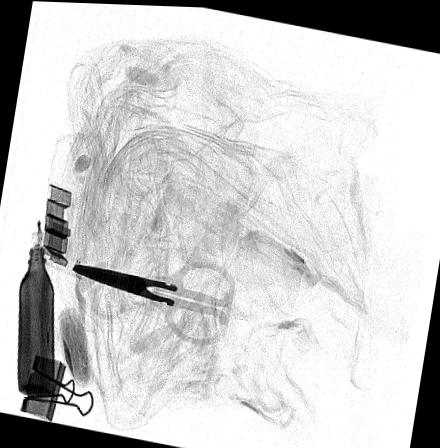Scissors: (69, 257, 237, 347)
